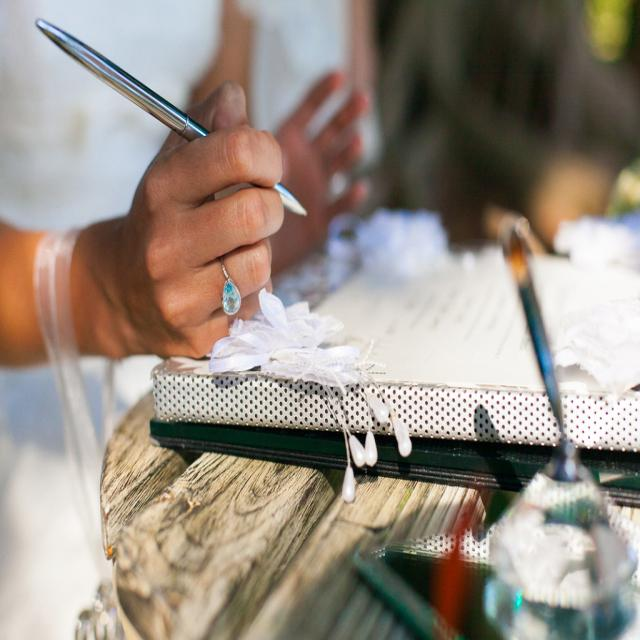pen: (34, 16, 322, 221)
